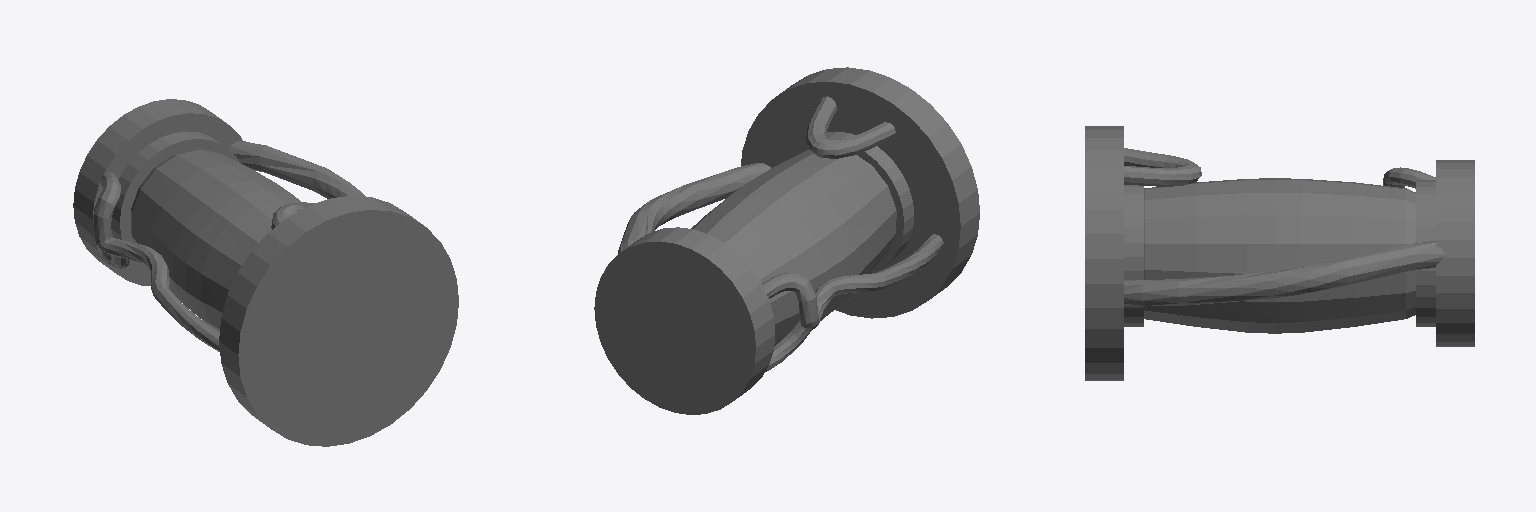
The model's file is ContainmentTube.obj.
3 renders of one model, left to right at view 1: azimuth 30°, elevation 25°; view 2: azimuth 150°, elevation 25°; view 3: azimuth 270°, elevation 25°, orthographic.
Visible parts, largest first — view 1: ContainmentTube; view 2: ContainmentTube; view 3: ContainmentTube.
Boxes of the visible parts, <box> form: ContainmentTube: <box>73,99,458,446</box>; ContainmentTube: <box>594,67,979,414</box>; ContainmentTube: <box>1085,126,1474,380</box>.
Size of the model in its own units: 247 by 237 by 363.